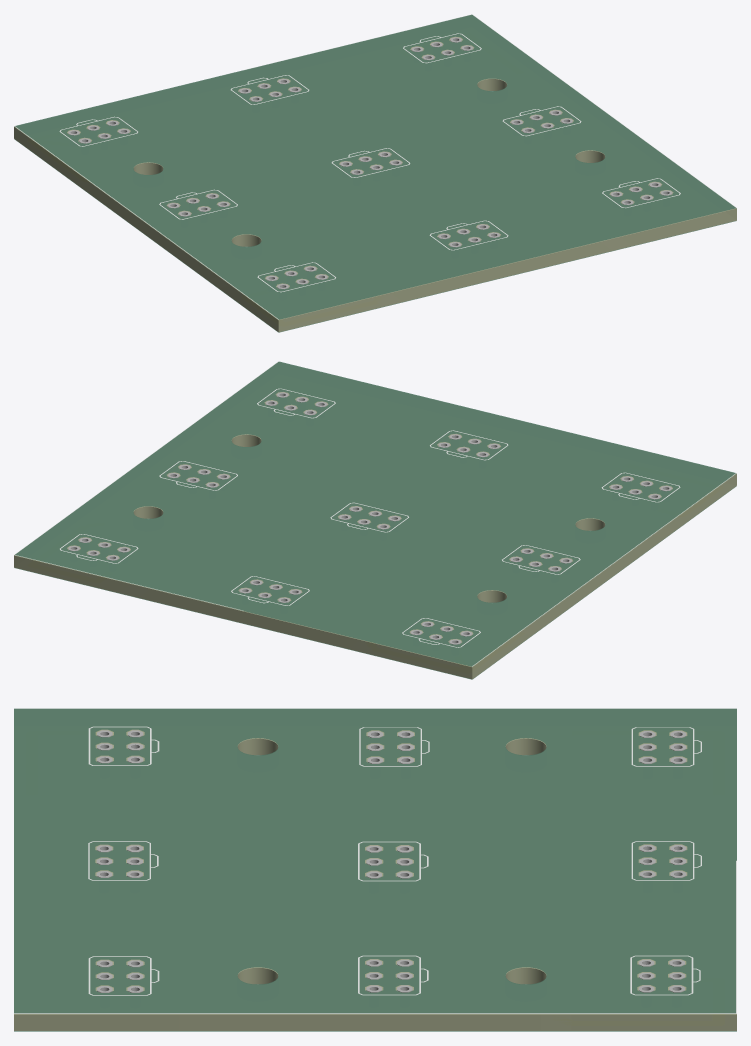
The model's file is shitty-add-on-panel-tileable-expansion-interface.glb.
The picture shows the model from 3 angles, top to bottom: view 1: azimuth 30°, elevation 25°; view 2: azimuth 150°, elevation 25°; view 3: azimuth 270°, elevation 25°; orthographic projection. The views are drawn at different scales.
Parts seen in each view (by area): view 1: =>[0:1:1:8], =>[0:1:1:6], =>[0:1:1:2], =>[0:1:1:4]; view 2: =>[0:1:1:8], =>[0:1:1:6], =>[0:1:1:2], =>[0:1:1:4]; view 3: =>[0:1:1:8], =>[0:1:1:6], =>[0:1:1:2], =>[0:1:1:4].
Boxes of the visible parts, x1,y1,x2,y2 form: =>[0:1:1:8]: [14, 15, 736, 332]; =>[0:1:1:6]: [14, 14, 736, 332]; =>[0:1:1:2]: [68, 37, 672, 289]; =>[0:1:1:4]: [14, 14, 736, 319]; =>[0:1:1:8]: [14, 362, 736, 679]; =>[0:1:1:6]: [14, 361, 736, 679]; =>[0:1:1:2]: [68, 392, 671, 644]; =>[0:1:1:4]: [14, 361, 736, 666]; =>[0:1:1:8]: [14, 709, 736, 1030]; =>[0:1:1:6]: [14, 708, 736, 1031]; =>[0:1:1:2]: [96, 730, 686, 992]; =>[0:1:1:4]: [14, 708, 736, 1013].
Size of the model in its own units: 0.06 by 0.00166 by 0.06.
Materials: 4 (4 with a texture image).
